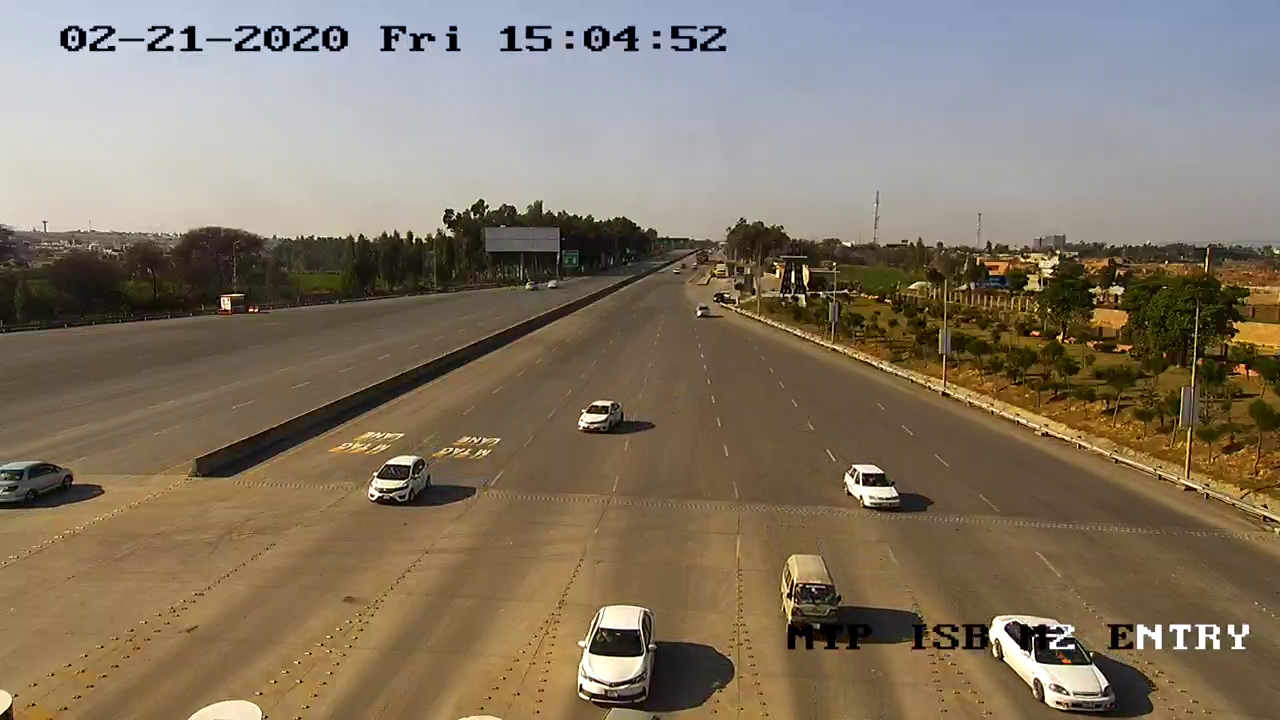f1: (559, 594, 668, 708), (768, 546, 848, 633), (352, 453, 448, 514), (834, 455, 915, 515), (560, 393, 639, 441)
